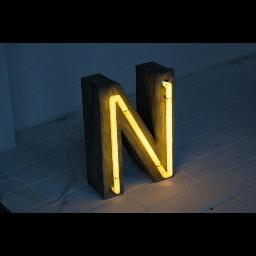n: (102, 76, 180, 196)
